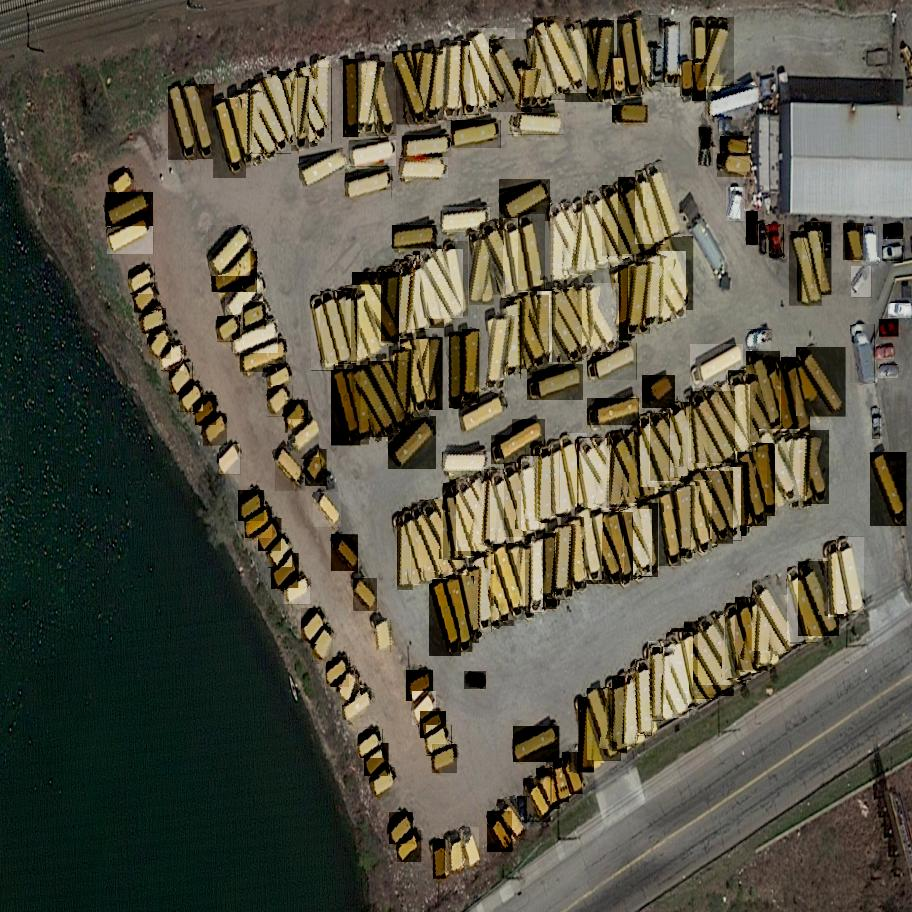large-vehicle: (683, 622, 735, 696), (578, 438, 630, 510), (795, 347, 848, 417), (752, 579, 803, 651), (701, 386, 752, 457), (669, 629, 720, 700), (470, 28, 516, 106), (698, 616, 749, 686), (728, 370, 777, 442), (536, 289, 584, 362), (420, 500, 468, 573), (477, 222, 525, 295), (456, 477, 503, 551), (287, 69, 334, 143), (647, 641, 692, 718), (246, 79, 292, 154), (587, 190, 634, 263), (690, 392, 738, 463), (693, 17, 735, 98), (351, 366, 398, 438), (351, 273, 400, 342), (758, 429, 803, 504), (488, 39, 534, 112), (545, 18, 589, 94), (473, 552, 518, 626), (649, 413, 697, 482), (234, 90, 280, 162), (419, 249, 466, 319), (689, 471, 734, 544), (797, 561, 840, 637), (565, 22, 605, 103), (533, 17, 572, 100), (367, 362, 412, 433), (758, 361, 801, 435), (550, 203, 594, 275), (602, 185, 646, 257), (611, 430, 654, 503), (577, 283, 622, 352), (618, 177, 658, 254), (868, 452, 909, 527), (459, 40, 501, 113), (411, 502, 451, 578), (509, 296, 550, 370), (644, 251, 689, 318), (551, 287, 594, 357), (585, 513, 626, 585), (489, 419, 550, 467), (612, 509, 655, 577), (658, 237, 697, 311), (639, 413, 678, 487), (645, 162, 683, 237), (449, 479, 486, 556), (626, 16, 663, 93), (706, 467, 744, 541), (344, 285, 383, 357), (795, 431, 833, 504), (490, 470, 526, 547), (212, 99, 247, 178), (387, 417, 440, 469), (392, 52, 429, 126), (586, 688, 623, 761), (745, 351, 781, 426), (429, 580, 464, 657), (686, 344, 747, 388), (670, 402, 705, 478), (492, 544, 526, 621), (789, 230, 823, 307), (735, 597, 770, 671), (786, 568, 820, 643), (402, 508, 435, 584), (330, 370, 363, 446), (206, 226, 255, 277), (400, 339, 432, 417), (458, 393, 516, 436), (413, 251, 445, 328), (503, 464, 536, 538), (585, 343, 643, 385), (267, 71, 299, 147), (184, 84, 216, 160), (635, 170, 667, 245), (738, 452, 770, 527), (498, 179, 553, 222), (320, 291, 352, 364), (781, 357, 811, 434), (666, 633, 696, 710), (208, 251, 264, 292), (222, 271, 267, 322), (367, 62, 398, 136), (518, 215, 547, 292), (836, 537, 865, 614), (525, 364, 585, 401), (168, 87, 198, 161), (503, 218, 531, 296), (298, 149, 351, 190), (804, 222, 833, 296), (560, 433, 588, 509), (582, 194, 610, 269), (416, 335, 443, 412), (447, 575, 474, 652), (684, 481, 713, 552), (726, 603, 753, 679), (509, 726, 565, 762), (576, 508, 603, 581), (590, 19, 614, 101), (702, 86, 763, 118), (412, 48, 437, 126), (617, 21, 642, 97), (106, 218, 157, 255), (404, 256, 429, 331), (311, 295, 336, 370), (444, 241, 469, 316), (470, 229, 494, 307), (606, 512, 633, 581), (455, 41, 480, 115), (228, 320, 282, 354), (577, 437, 601, 512), (658, 492, 682, 567), (443, 483, 466, 561), (237, 340, 291, 373), (287, 75, 310, 152), (106, 192, 155, 227), (427, 46, 449, 123), (585, 398, 642, 426), (343, 170, 396, 200), (488, 314, 508, 393), (629, 261, 650, 336), (690, 396, 711, 471), (850, 325, 876, 385), (358, 60, 379, 134), (513, 545, 534, 619), (638, 503, 659, 577), (521, 456, 541, 531), (450, 121, 503, 149), (444, 42, 463, 119), (575, 198, 594, 275), (730, 374, 749, 450), (637, 423, 656, 499), (474, 557, 493, 632), (756, 443, 775, 516), (396, 260, 414, 337), (349, 141, 398, 169), (579, 697, 597, 773), (610, 433, 628, 508), (353, 367, 370, 444), (382, 266, 399, 343), (551, 439, 568, 515), (463, 329, 480, 404), (635, 660, 652, 735), (394, 350, 411, 424), (532, 34, 549, 108), (568, 517, 585, 591), (398, 512, 414, 590), (441, 208, 492, 232), (828, 541, 844, 617), (508, 113, 563, 135), (556, 525, 572, 600), (399, 157, 448, 181), (342, 289, 358, 362), (731, 463, 747, 536), (400, 135, 453, 157), (235, 90, 250, 167), (485, 469, 500, 545), (792, 436, 807, 511), (612, 677, 627, 752), (758, 592, 773, 666), (391, 226, 438, 249), (507, 302, 521, 379), (344, 60, 358, 137), (537, 291, 552, 362), (618, 265, 632, 340), (646, 254, 660, 327), (318, 57, 331, 135), (578, 285, 592, 357), (677, 486, 691, 557), (466, 567, 479, 643), (552, 207, 565, 283), (444, 452, 491, 473), (531, 539, 544, 612), (650, 647, 663, 720), (625, 669, 637, 746), (544, 533, 556, 609), (450, 333, 462, 408), (665, 22, 679, 86), (540, 448, 551, 523)
small-vehicle: (271, 449, 310, 492), (283, 421, 325, 458), (494, 799, 528, 840), (338, 688, 379, 722), (268, 553, 305, 589), (522, 778, 552, 822), (485, 811, 515, 852), (640, 375, 677, 408), (329, 535, 362, 571), (297, 608, 330, 644), (361, 744, 395, 778), (311, 493, 343, 529), (242, 506, 278, 538), (402, 670, 439, 701), (233, 490, 270, 521), (300, 450, 330, 488), (409, 691, 442, 725), (199, 413, 233, 446), (166, 362, 200, 395), (423, 725, 458, 757), (536, 769, 563, 810), (349, 578, 381, 612), (255, 518, 287, 551), (386, 811, 417, 845), (394, 830, 426, 862), (265, 386, 298, 417), (266, 534, 296, 568), (366, 769, 401, 798), (124, 265, 159, 294), (310, 623, 336, 662), (427, 745, 463, 773), (561, 752, 585, 794), (280, 577, 316, 605), (107, 168, 139, 199), (322, 657, 355, 687), (190, 395, 223, 425), (217, 444, 247, 475), (132, 282, 162, 313), (284, 401, 313, 433), (355, 729, 387, 758), (147, 327, 176, 359), (417, 712, 450, 739), (238, 304, 271, 330), (843, 223, 865, 262), (156, 345, 189, 371), (178, 384, 207, 413), (717, 154, 752, 178), (849, 267, 875, 299), (137, 308, 170, 333), (266, 365, 297, 391), (215, 316, 244, 343), (460, 827, 480, 866), (726, 187, 747, 223), (766, 223, 787, 259), (553, 758, 570, 802), (863, 226, 881, 265), (340, 668, 359, 704), (612, 105, 648, 124), (692, 64, 709, 102), (699, 126, 714, 167), (721, 136, 750, 157), (745, 330, 774, 350), (449, 830, 462, 874), (376, 620, 392, 653), (433, 839, 446, 879), (522, 69, 535, 108), (612, 59, 625, 98), (682, 60, 695, 96), (879, 319, 901, 339), (747, 211, 759, 246), (464, 671, 487, 689), (654, 48, 666, 82), (758, 222, 770, 255), (888, 304, 912, 320), (881, 224, 904, 240), (822, 224, 832, 258), (517, 796, 528, 823), (875, 345, 896, 359), (883, 247, 904, 261), (878, 365, 898, 378), (719, 121, 737, 135), (873, 409, 879, 438)
